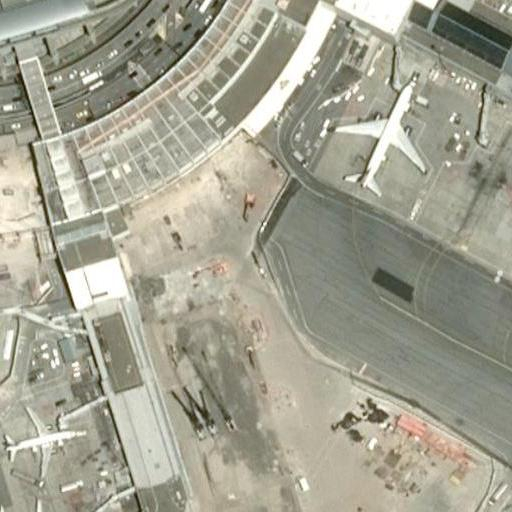Aircraft: (329, 75, 427, 198), (1, 405, 85, 485)
